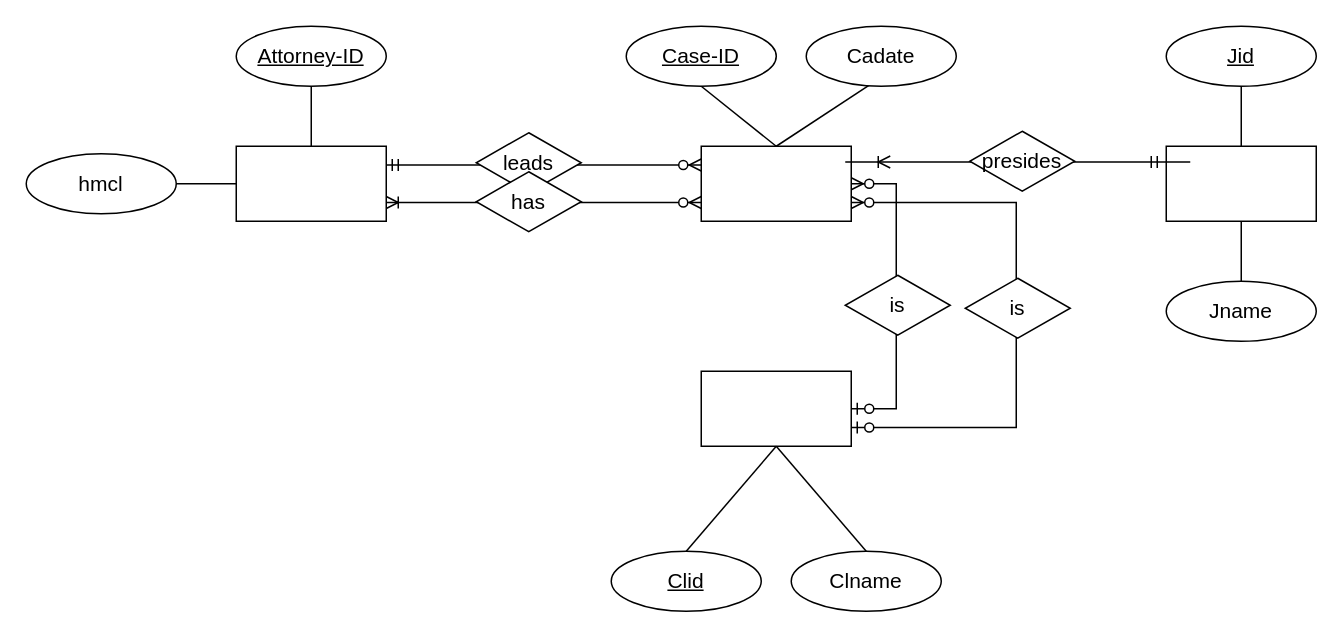
This 1343x638 diagram has some shape labels left out. The shapes that lost their labels are listed below. From the top down, each one's centre as x and y in pixels, then its label:
the point at 310,183: Attorney
the point at 775,183: Case
the point at 1240,183: Judge
the point at 775,408: Client
